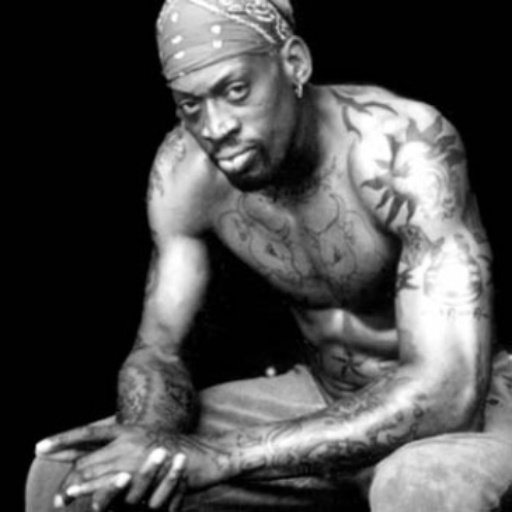hand: (28, 437, 190, 509)
